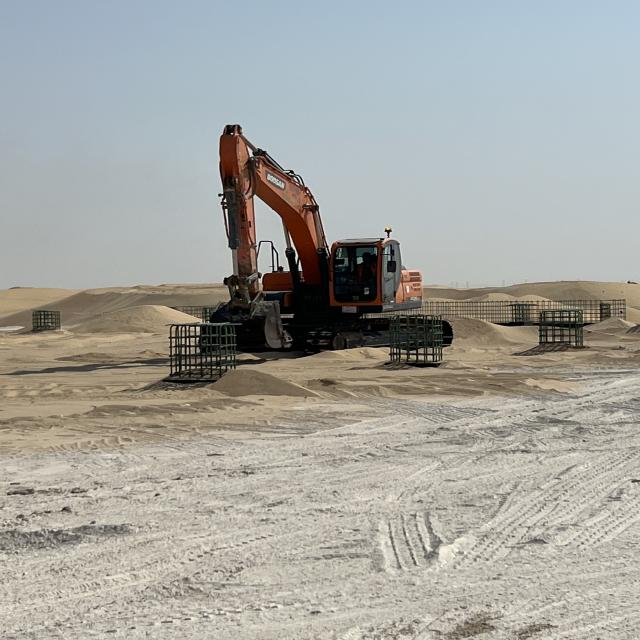Excavator: (206, 120, 422, 367)
